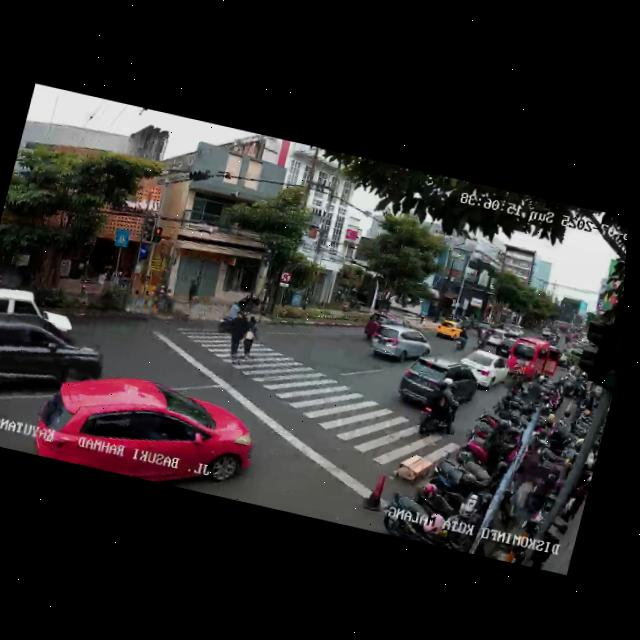car: (26, 361, 264, 500), (0, 302, 112, 422), (392, 351, 482, 425), (0, 274, 88, 340), (365, 319, 436, 371), (503, 334, 565, 389), (455, 347, 512, 393), (433, 315, 465, 344)
motorcycle: (414, 374, 466, 441), (215, 299, 248, 341), (361, 312, 383, 340), (455, 325, 471, 352), (474, 327, 491, 352)
person: (221, 310, 249, 360), (241, 316, 262, 362)
